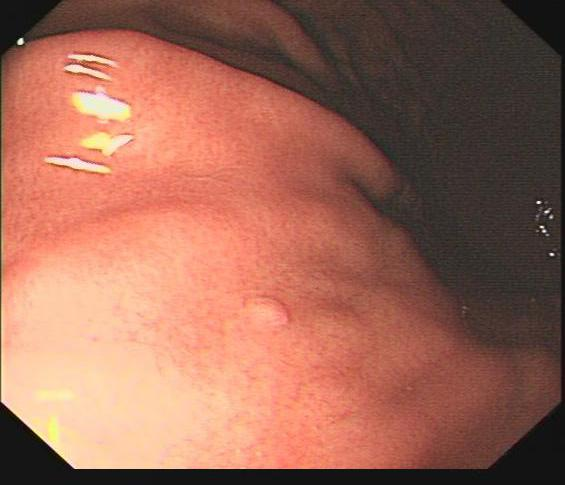Polyp: (234, 271, 302, 340)
